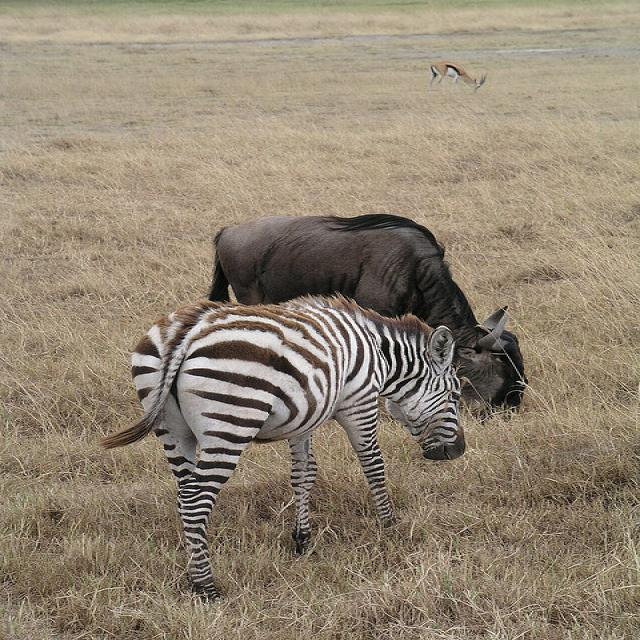cow: (211, 212, 527, 412)
